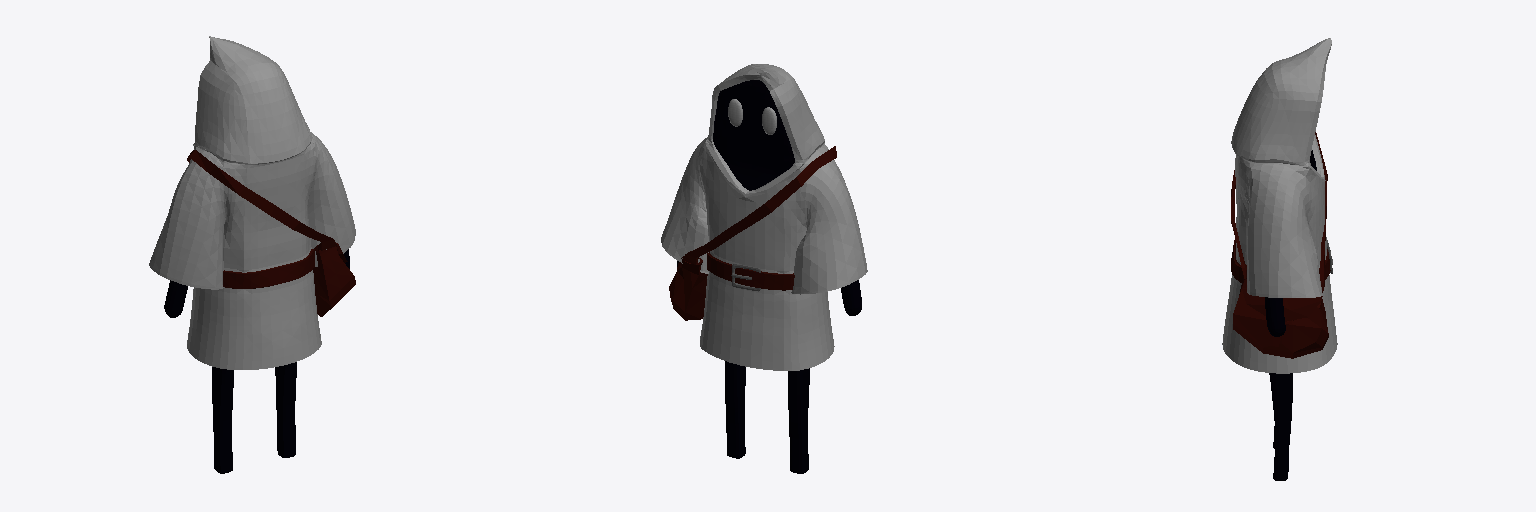
File: Pheobia.obj
3 renders of one model, left to right at view 1: azimuth 30°, elevation 25°; view 2: azimuth 150°, elevation 25°; view 3: azimuth 270°, elevation 25°, orthographic.
Visible parts, largest first — view 1: bodyMesh; view 2: bodyMesh; view 3: bodyMesh.
Part boxes in pixels (x1,y1,x2,y2): bodyMesh: (149, 36, 355, 473); bodyMesh: (661, 64, 867, 473); bodyMesh: (1222, 38, 1337, 480).
Bounding box in the file's own units: 4.33 × 8.82 × 2.22.